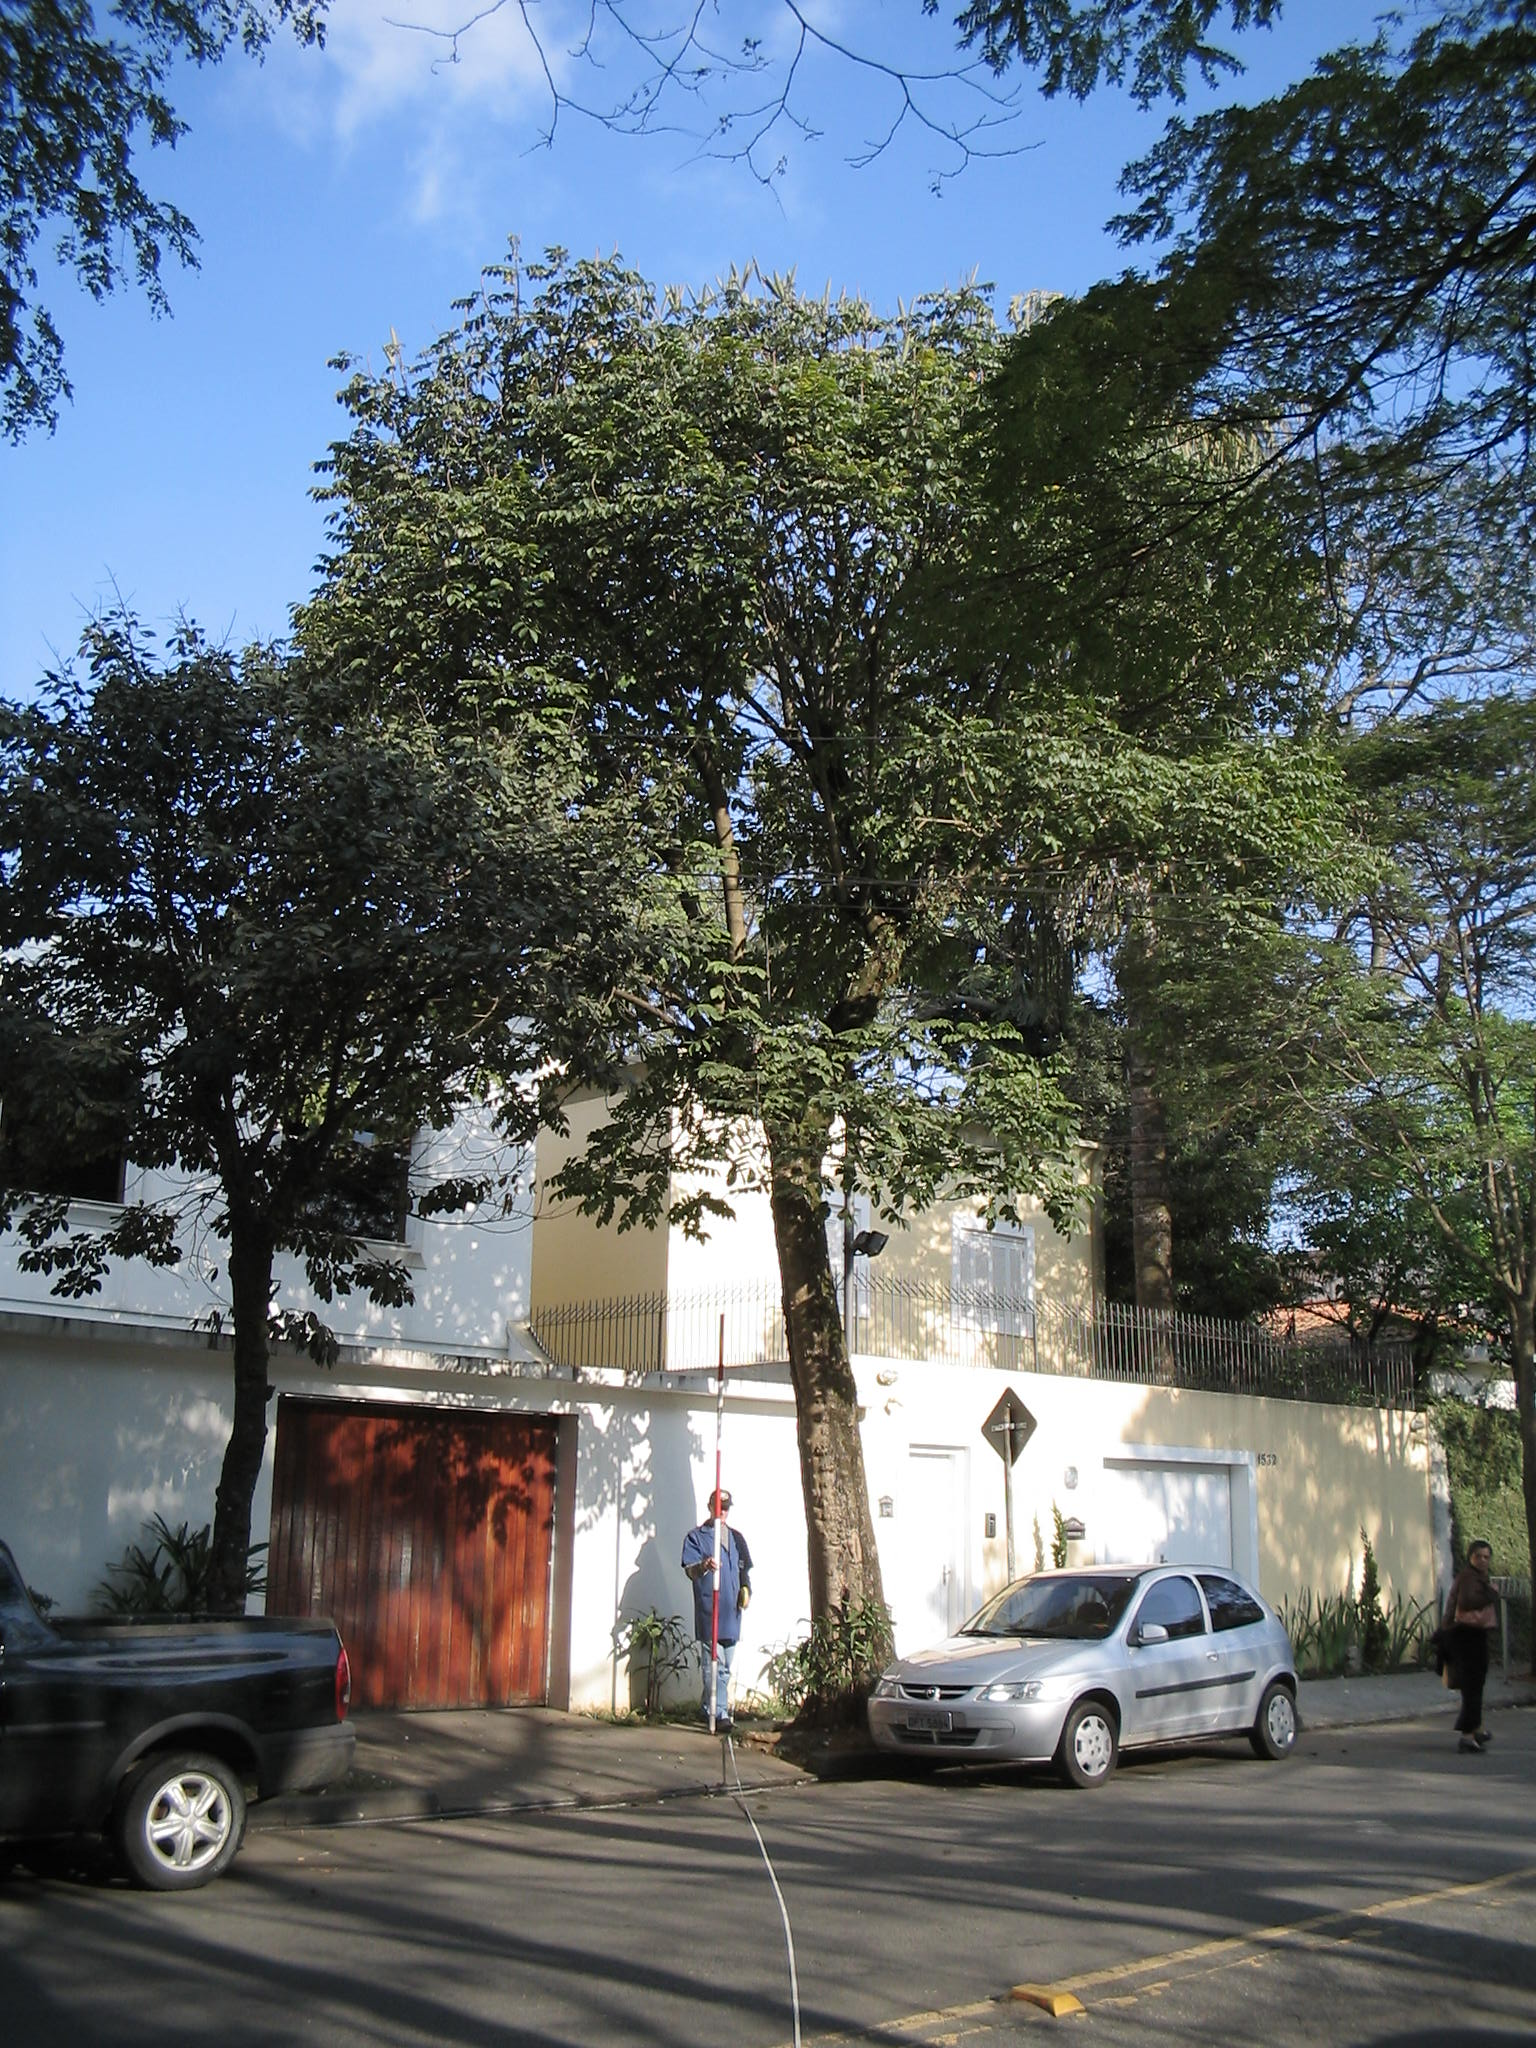crown: (311, 247, 1391, 1259), (8, 582, 703, 1322)
stem: (763, 1219, 928, 1725), (177, 1247, 287, 1727)
stick: (699, 1314, 736, 1735)
tree: (303, 244, 1397, 1727), (3, 576, 712, 1730)
